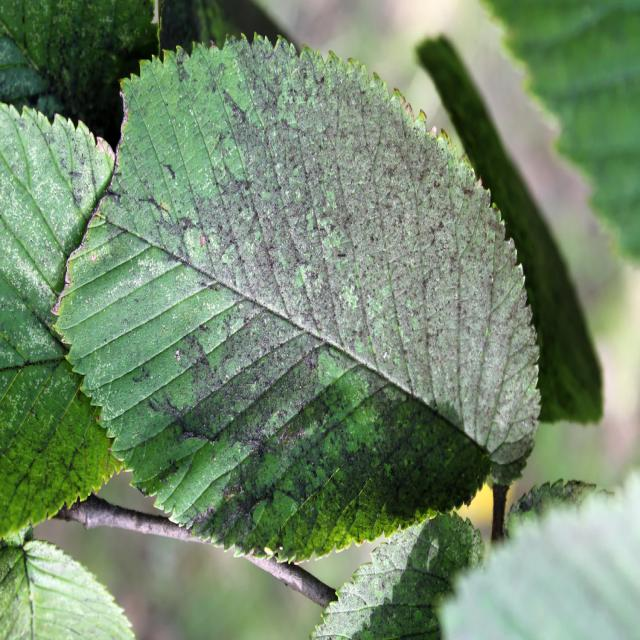Sooty Mold: (51, 30, 544, 567)
